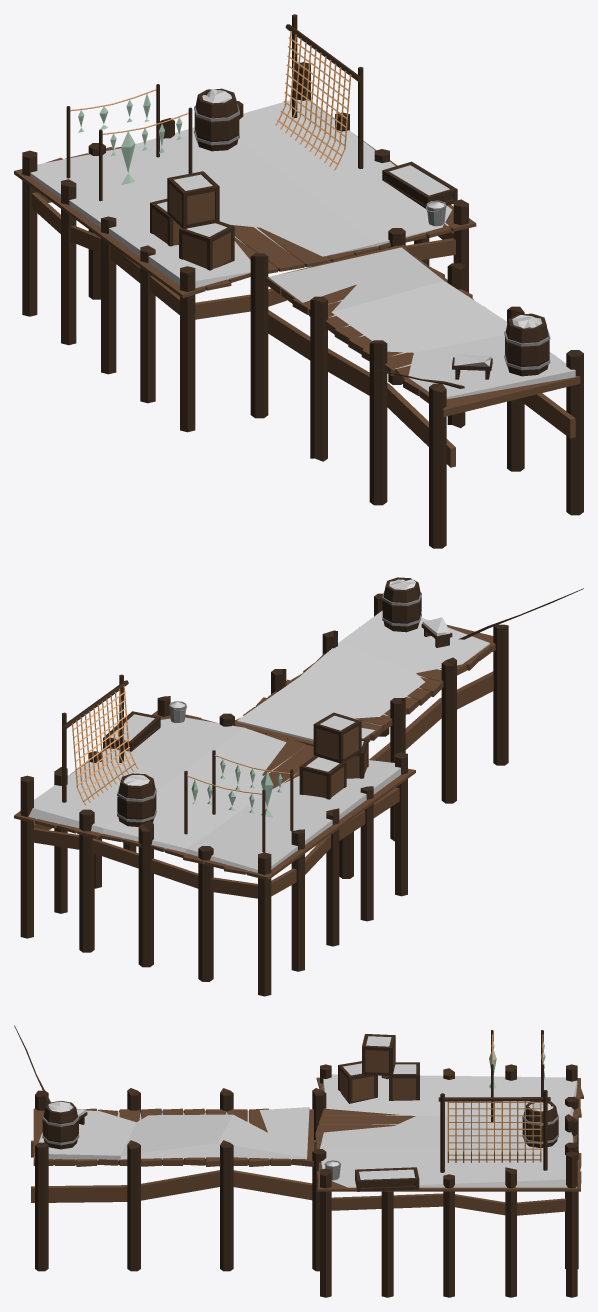
File: fishery_snow_mat.fbx
3 views of the same model, one above another, from view 1: azimuth 30°, elevation 25°; view 2: azimuth 150°, elevation 25°; view 3: azimuth 270°, elevation 25° (orthographic). The views are drawn at different scales.
Parts seen in each view (by area): view 1: fishery_snow_mat; view 2: fishery_snow_mat; view 3: fishery_snow_mat.
Boxes of the visible parts, box(x1,y1,x2,y2) form: fishery_snow_mat: box(14, 14, 583, 548); fishery_snow_mat: box(14, 577, 583, 996); fishery_snow_mat: box(14, 1025, 583, 1297).
Bounding box in the file's own units: 334 × 265 × 703.
